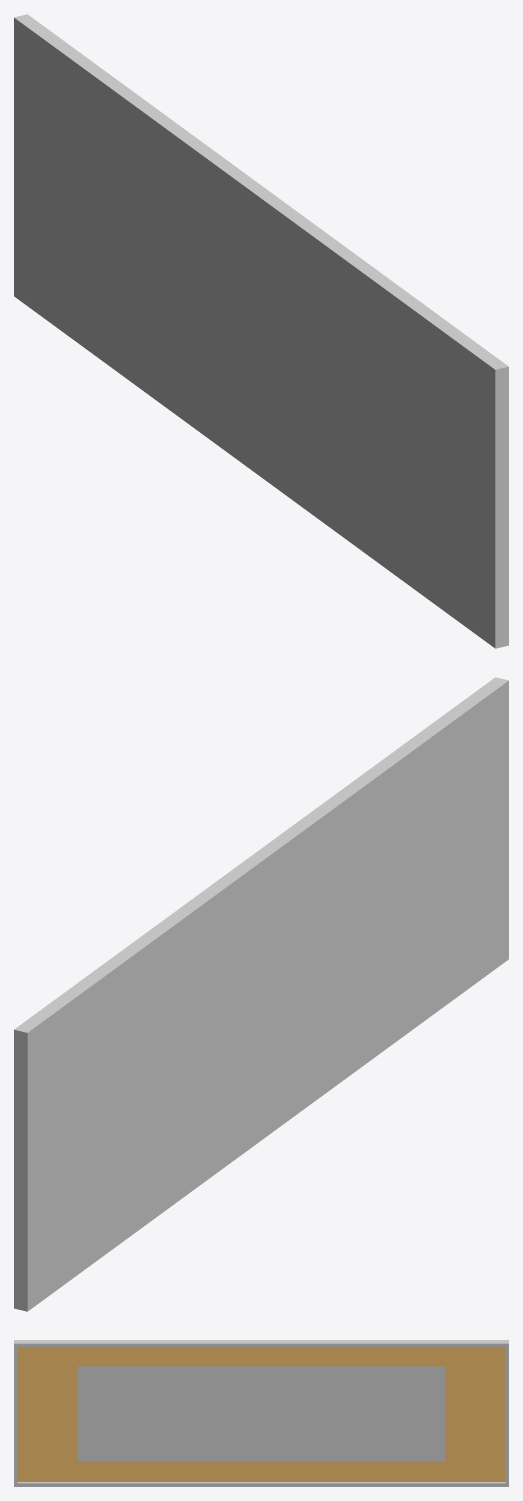
Rendered from 流水不腐.fbx.
3 renders of one model, top to bottom at view 1: azimuth 30°, elevation 25°; view 2: azimuth 150°, elevation 25°; view 3: azimuth 270°, elevation 25°, orthographic. The views are drawn at different scales.
Parts seen in each view (by area): view 1: 立方体; view 2: 立方体; view 3: 立方体.
Boxes of the visible parts, x1,y1,x2,y2 form: 立方体: [14, 14, 508, 648]; 立方体: [14, 677, 508, 1311]; 立方体: [14, 1340, 508, 1486].
Size of the model in its own units: 0.1014 by 2 by 6.26.
